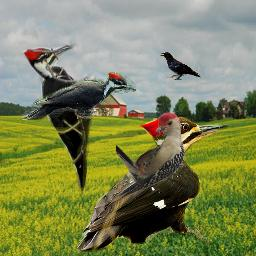Crow: (160, 52, 201, 80)
Woodpecker: (77, 117, 232, 253), (23, 43, 96, 200), (116, 112, 184, 202), (22, 72, 136, 120)
